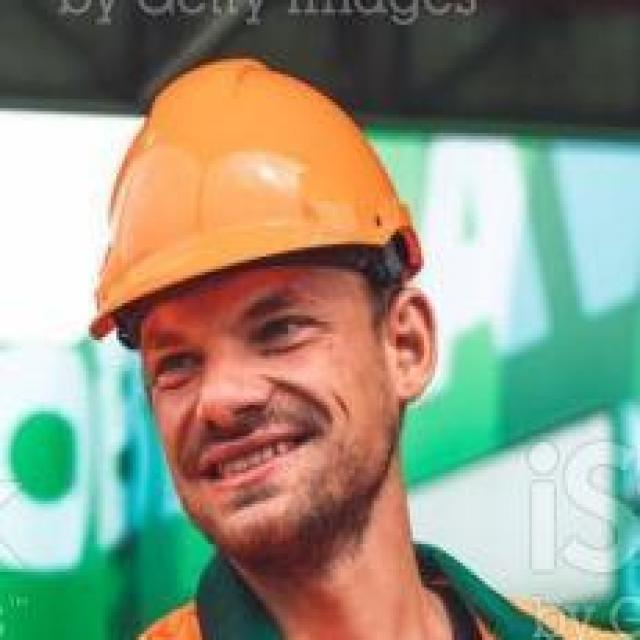hat: (89, 56, 424, 340)
